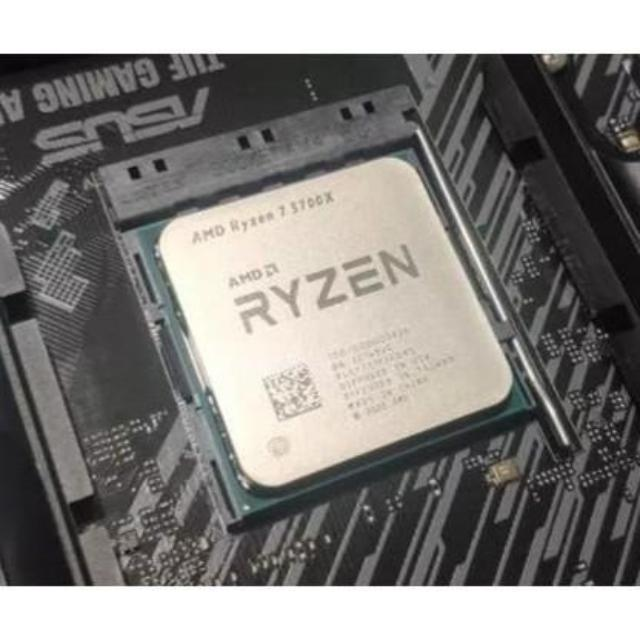CPU: (143, 153, 523, 513)
